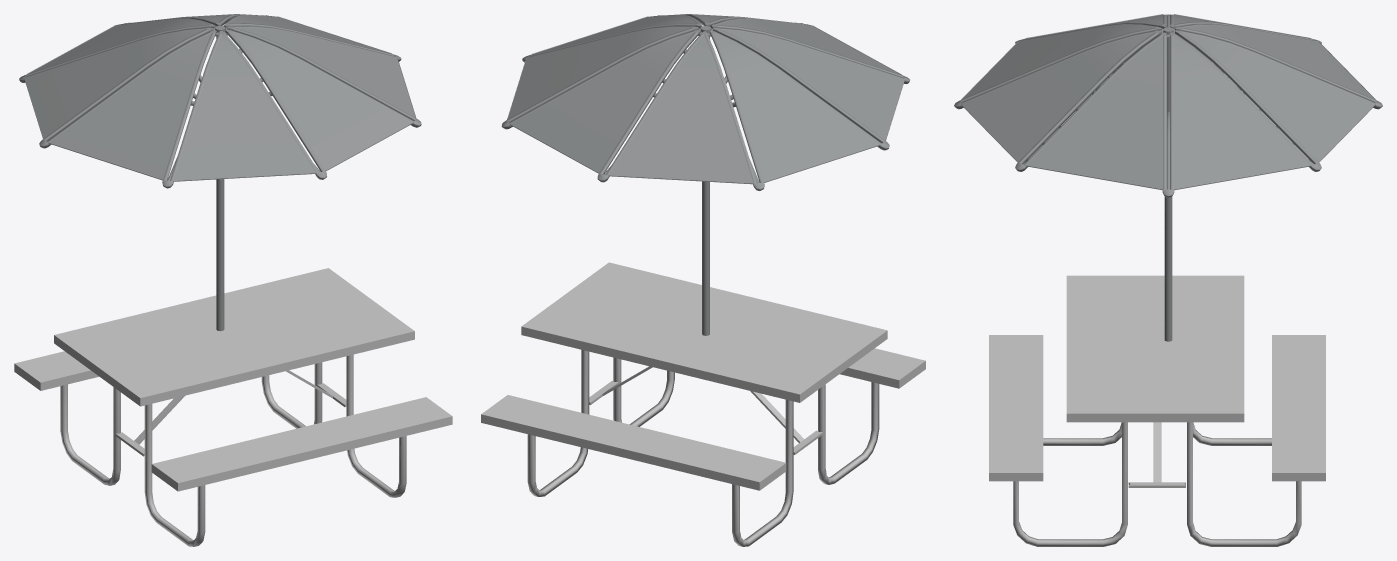
Rendered from picnic_table.fbx.
3 views of the same model, side by side, from view 1: azimuth 30°, elevation 25°; view 2: azimuth 150°, elevation 25°; view 3: azimuth 270°, elevation 25° (orthographic). The views are drawn at different scales.
Parts seen in each view (by area): view 1: Component_10 (×7), ID255, ID219, Component_13 (×6), ntitled, ID189, ID213, ID155, Component_17, ID183, ID237; view 2: Component_10 (×7), ID255, ntitled, Component_13 (×6), ID219, ID213, ID189, ID183, ID155, ID237, Component_17, ID129; view 3: Component_10 (×6), ID255, ID219, ntitled, Component_13 (×5), ID155, ID183, Component_17, ID237, ID213, ID189.
Boxes of the visible parts, <box> form: Component_10 (×7): <box>24,15,415,180</box>; ID255: <box>54,268,414,406</box>; ID219: <box>151,397,452,491</box>; Component_13 (×6): <box>19,23,421,188</box>; ntitled: <box>14,351,98,390</box>; ID189: <box>144,404,205,546</box>; ID213: <box>60,384,120,485</box>; ID155: <box>346,354,406,497</box>; Component_17: <box>215,25,225,331</box>; ID183: <box>261,362,322,428</box>; ID237: <box>115,370,346,456</box>; Component_10 (×7): <box>507,15,904,182</box>; ID255: <box>521,262,887,402</box>; ntitled: <box>481,395,786,490</box>; Component_13 (×6): <box>501,23,909,190</box>; ID219: <box>839,348,925,388</box>; ID213: <box>732,399,793,546</box>; ID189: <box>818,382,879,484</box>; ID183: <box>527,350,589,496</box>; ID155: <box>613,357,674,426</box>; ID237: <box>589,366,822,454</box>; Component_17: <box>700,26,711,335</box>; ID129: <box>702,181,705,335</box>; Component_10 (×6): <box>962,25,1374,188</box>; ID255: <box>1066,275,1244,422</box>; ID219: <box>989,335,1043,481</box>; ntitled: <box>1272,335,1325,481</box>; Component_13 (×5): <box>954,28,1382,197</box>; ID155: <box>1013,422,1127,546</box>; ID183: <box>1187,422,1301,546</box>; Component_17: <box>1163,27,1173,341</box>; ID237: <box>1128,422,1185,487</box>; ID213: <box>1193,422,1271,445</box>; ID189: <box>1043,422,1121,445</box>.
Size of the model in its own units: 78.84 by 78.84 by 93.7.
6 materials, 2 textured.
